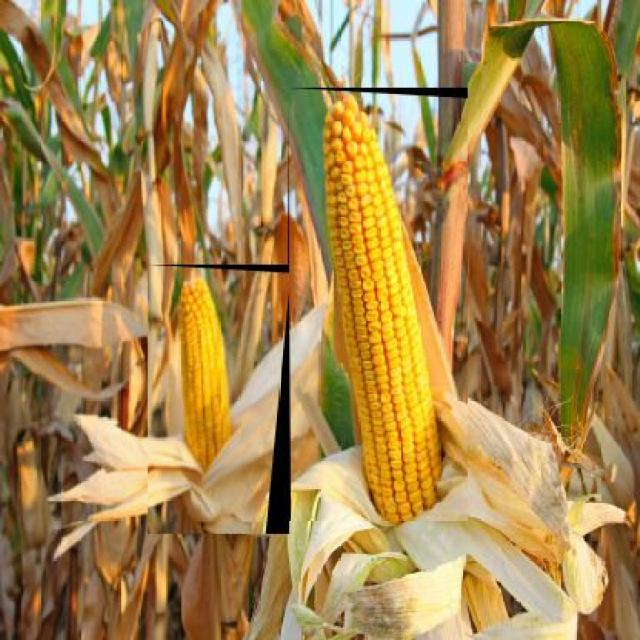Corn: (288, 89, 469, 523), (147, 264, 290, 536)
